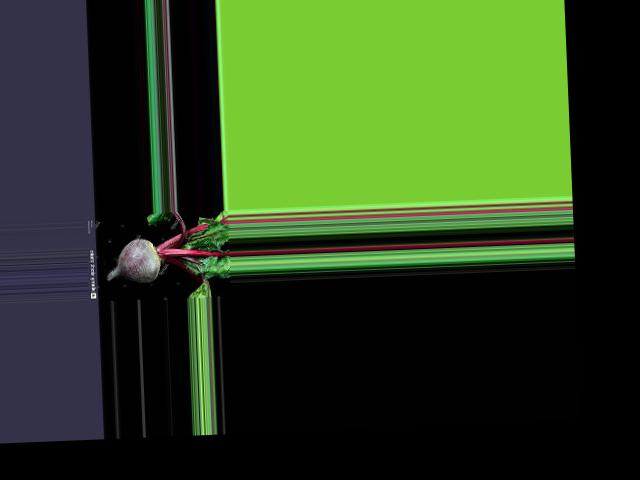beet: (104, 209, 231, 301)
